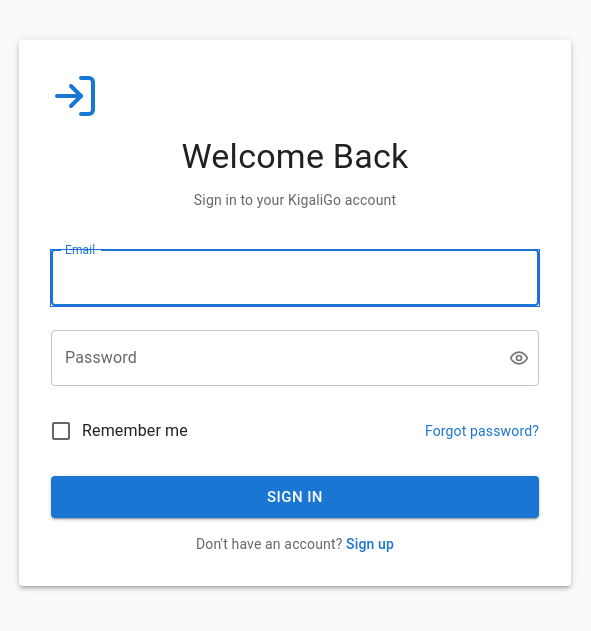
Test: SignIn › should validate email format
The image size is (591, 631).
In the field labelled "Email": (295, 278) [51,250,539,306], type "invalid-email"
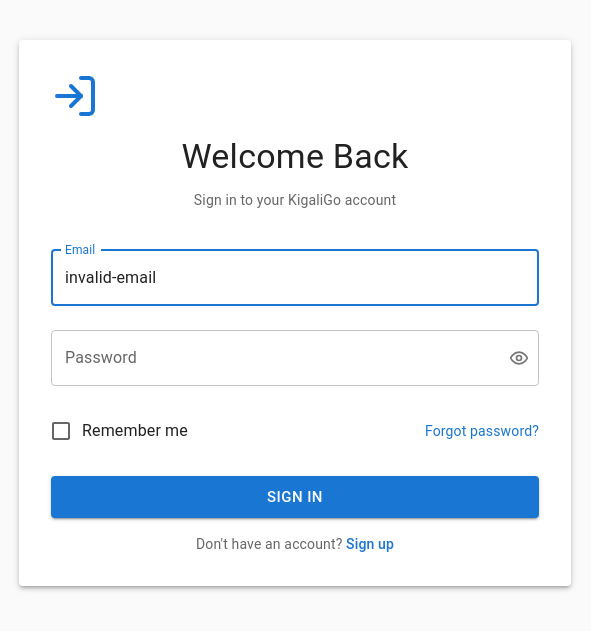
Click the button "Sign In": (295, 497) [51,476,539,518]
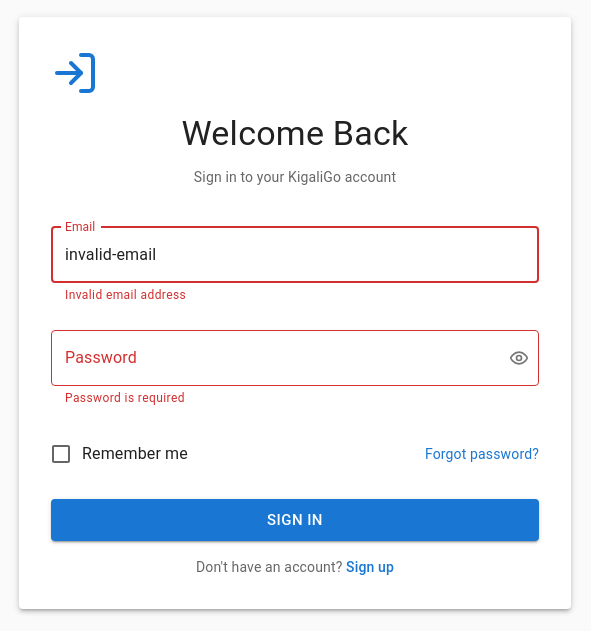
Expected: the text "Invalid email address" is shown, [65,288,186,302]
